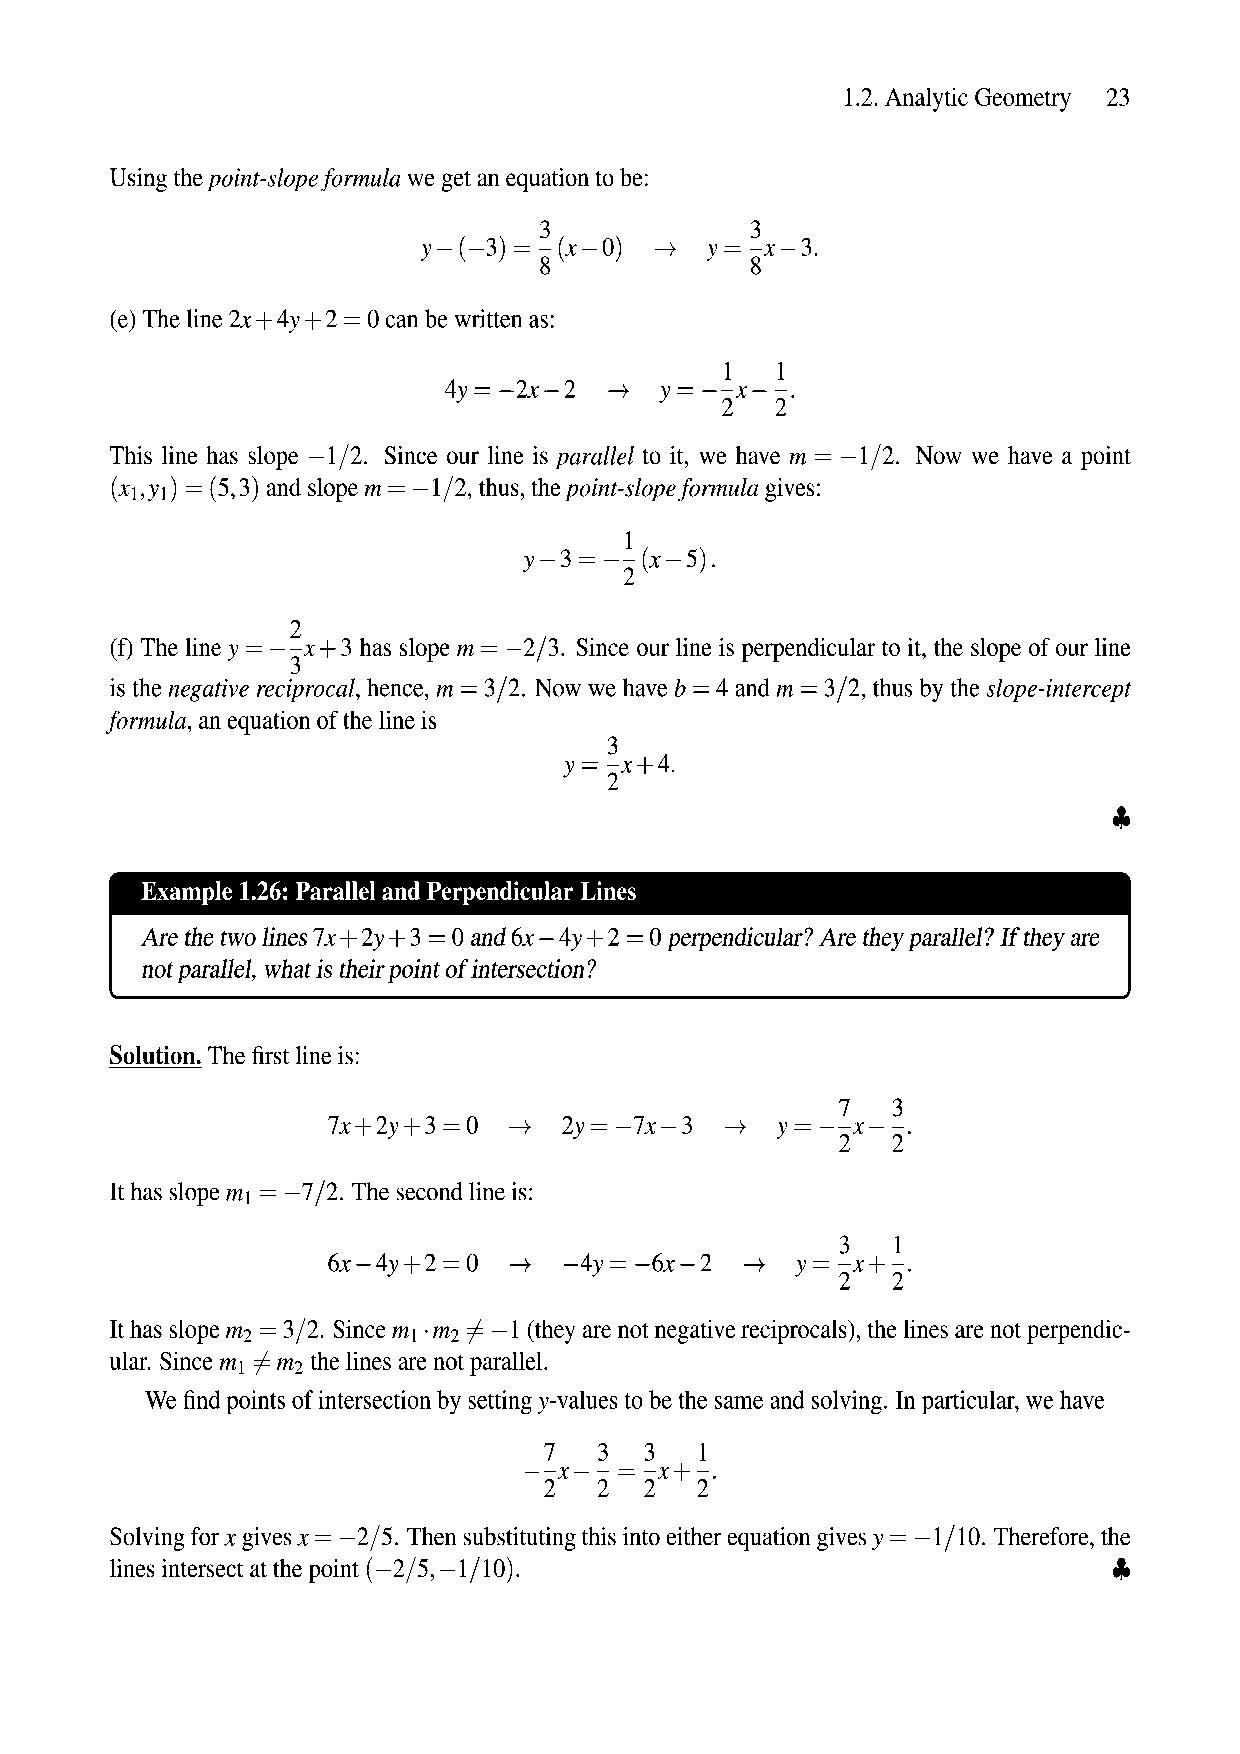content: (103, 157, 1139, 1589)
content_chapter: (832, 83, 1071, 115)
content_pagenumber: (1104, 83, 1131, 110)
